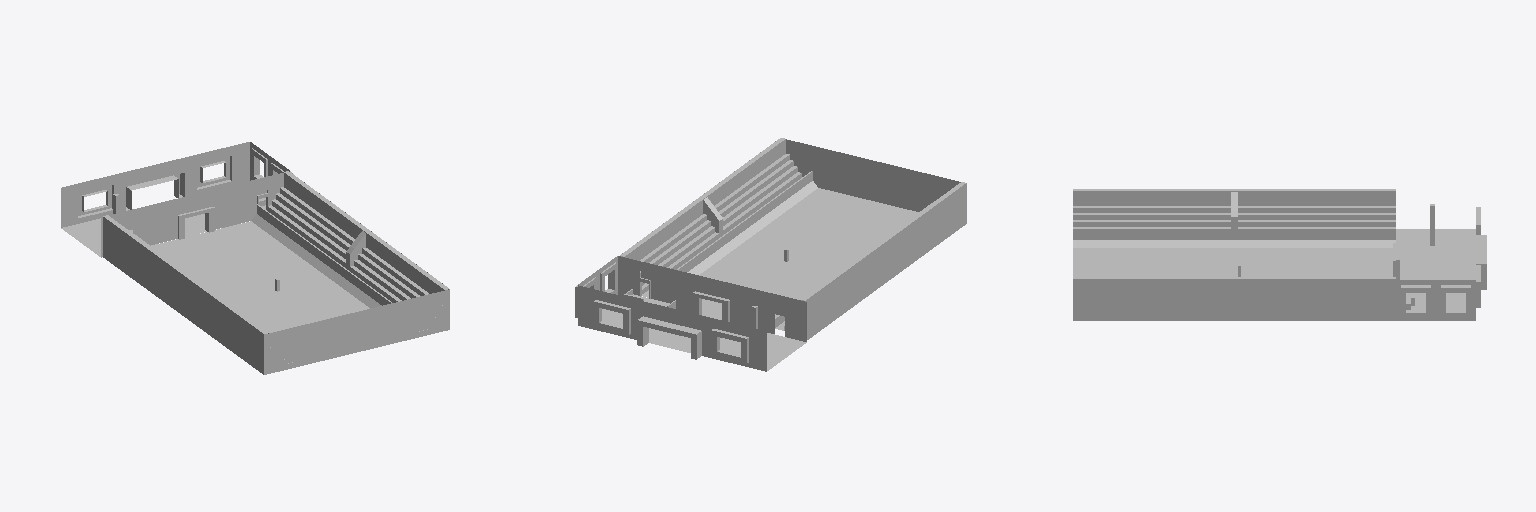
Rendered from gymFloor.obj.
3 views of the same model, side by side, from view 1: azimuth 30°, elevation 25°; view 2: azimuth 150°, elevation 25°; view 3: azimuth 270°, elevation 25° (orthographic).
Visible parts, largest first — view 1: gym_floor_Plane.001, benches_Cube.001, walls_Plane.012, benches_Cube, wall_Plane.013, windows_Plane, floor.001_Plane.007, entryWay_Plane.004; view 2: gym_floor_Plane.001, benches_Cube, walls_Plane.012, benches_Cube.001, wall_Plane.013, floor.001_Plane.007, windows_Plane, entryWay_Plane.004; view 3: benches_Cube, gym_floor_Plane.001, benches_Cube.001, floor.001_Plane.007, walls_Plane.012, windows_Plane, window_Plane.011.
Part boxes in pixels (x1,y1,x2,y2): gym_floor_Plane.001: (151,221,369,332); benches_Cube.001: (103,171,448,373); walls_Plane.012: (61,142,289,257); benches_Cube: (103,174,448,374); wall_Plane.013: (264,289,449,374); windows_Plane: (78,148,267,217); floor.001_Plane.007: (61,198,265,256); entryWay_Plane.004: (126,173,184,210); gym_floor_Plane.001: (699,188,918,319); benches_Cube: (621,138,966,339); walls_Plane.012: (578,256,806,371); benches_Cube.001: (620,139,966,337); wall_Plane.013: (786,139,960,211); floor.001_Plane.007: (602,309,806,370); windows_Plane: (575,277,748,363); entryWay_Plane.004: (637,316,701,359); benches_Cube: (1073,189,1395,320); gym_floor_Plane.001: (1073,248,1392,276); benches_Cube.001: (1073,189,1395,320); floor.001_Plane.007: (1396,229,1475,310); walls_Plane.012: (1396,280,1475,320); windows_Plane: (1441,207,1480,318); window_Plane.011: (1401,285,1430,318).
Size of the model in its own units: 30.16 by 6.16 by 55.68.